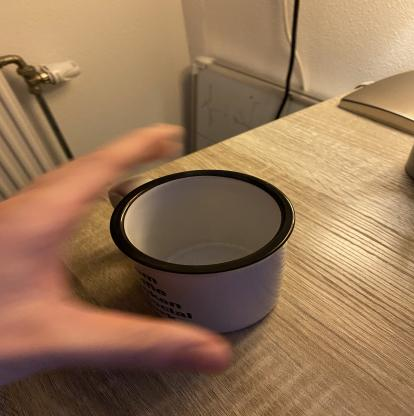Cup: (111, 169, 304, 314)
